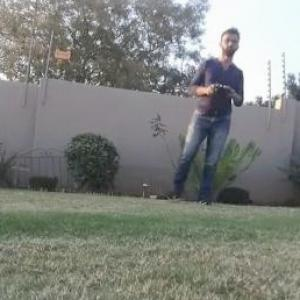follow: (160, 22, 248, 209)
